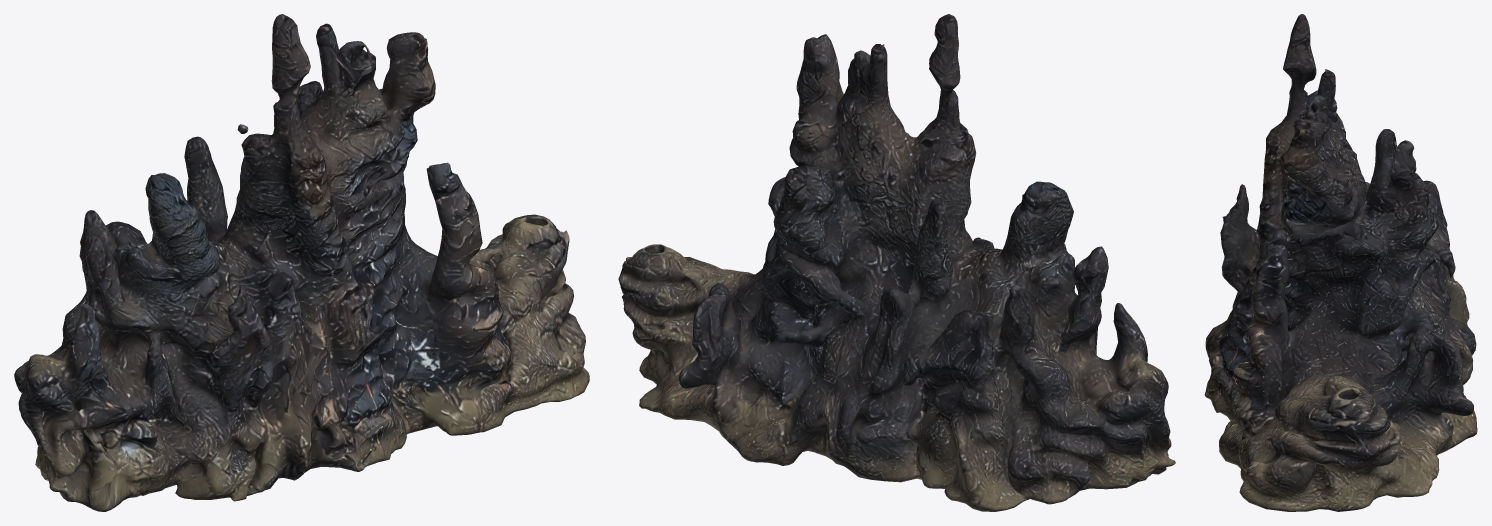
The model's file is vent_source.glb.
3 views of the same model, side by side, from view 1: azimuth 30°, elevation 25°; view 2: azimuth 150°, elevation 25°; view 3: azimuth 270°, elevation 25° (orthographic). The views are drawn at different scales.
Parts seen in each view (by area): view 1: SOURCE_vent; view 2: SOURCE_vent; view 3: SOURCE_vent.
Boxes of the visible parts, left/top/right/bottom form: SOURCE_vent: left=14, top=14, right=589, bottom=511; SOURCE_vent: left=618, top=14, right=1175, bottom=511; SOURCE_vent: left=1204, top=14, right=1477, bottom=511.
Bounding box in the file's own units: 1.34 × 1 × 0.6524.
1 material, 1 textured.
